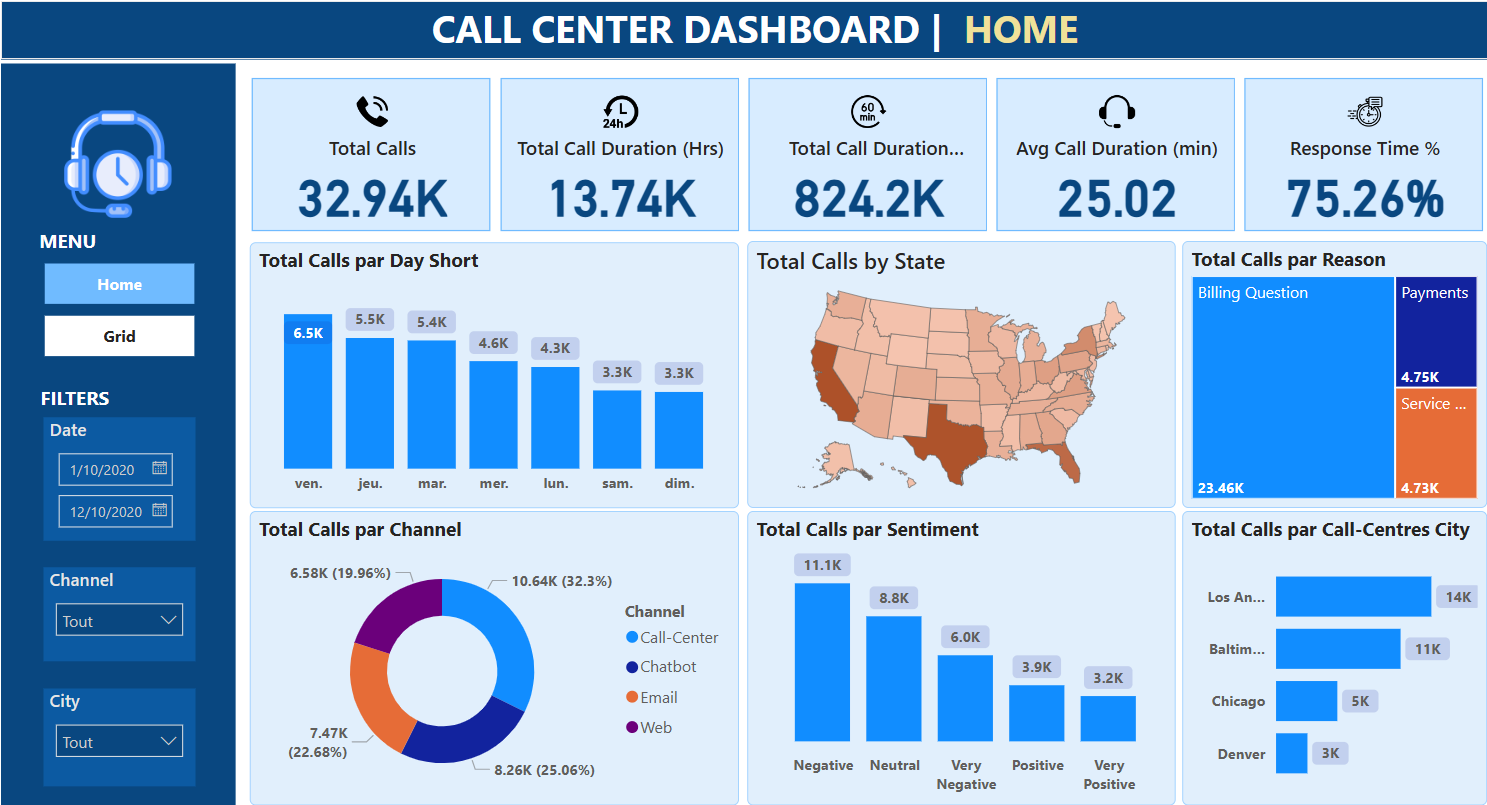

The dashboard page shown, as its layout file describes it:
{"tool":"powerbi","page":{"name":"Home","canvas":[1280,723],"ordinal":0},"visuals":[{"type":"shape","box":[4.1,42.5,1270.7,49.4],"z":0},{"type":"shape","box":[4.1,94.7,197.6,628.5],"z":1000},{"type":"cardVisual","fields":{"Data":["Call Center_Call Center.Total Calls","Call Center_Call Center.Total Call Duration (Hrs)","Call Center_Call Center.Total Call Duration (min)","Call Center_Call Center.Avg Call Duration (min)","Call Center_Call Center.Response Time %"]},"box":[210.5,102.3,1051.2,139.5],"z":2000},{"type":"textbox","box":[348.8,38.4,581.4,59.3],"z":3000},{"type":"columnChart","fields":{"Category":["Date Table.Day Short"],"Y":["Call Center_Call Center.Total Calls"]},"box":[214.1,245.6,411.7,223.7],"z":4000},{"type":"shapeMap","title":"Total Calls by State","fields":{"Category":["Call Center_Call Center.State"],"Value":["Call Center_Call Center.Total Calls"]},"box":[632.6,244.3,360.9,225],"z":5000},{"type":"treemap","fields":{"Group":["Call Center_Call Center.Reason"],"Values":["Call Center_Call Center.Total Calls"]},"box":[999,244.3,256.6,225],"z":6000},{"type":"donutChart","fields":{"Category":["Call Center_Call Center.Channel"],"Y":["Call Center_Call Center.Total Calls"]},"box":[214,472,412,248],"z":7000},{"type":"columnChart","fields":{"Category":["Call Center_Call Center.Sentiment"],"Y":["Call Center_Call Center.Total Calls"]},"box":[633,472,361,248],"z":8000},{"type":"barChart","fields":{"Category":["Call Center_Call Center.Call-Centres City"],"Y":["Call Center_Call Center.Total Calls"]},"box":[999,472,257,248],"z":9000},{"type":"slicer","title":"Date","fields":{"Values":["Date Table.Date"]},"box":[39.8,392.8,127.6,104.3],"z":10000},{"type":"slicer","title":"Channel","fields":{"Values":["Call Center_Call Center.Channel"]},"box":[39.8,519.1,127.6,79.6],"z":11000},{"type":"slicer","title":"City","fields":{"Values":["Call Center_Call Center.City"]},"box":[39.8,620.6,127.6,82.3],"z":12000},{"type":"image","box":[52.1,129,100.2,100.2],"z":13000},{"type":"pageNavigator","box":[41.2,263.5,126.2,79.6],"z":14000},{"type":"textbox","box":[17.8,227.8,85.1,31.6],"z":15000},{"type":"textbox","box":[27.4,359.5,78.2,31.6],"z":15001}]}

Visuals, with their boxes on the page's 1280x723 design canvas (x1, y1, x2, y2). These are canvas units, not pixel positions in the 1487x805 screenshot, which may show the page scaled, cropped or inside an application window:
shape: [x1=4, y1=42, x2=1275, y2=92]
shape: [x1=4, y1=95, x2=202, y2=723]
cardVisual - Call Center_Call Center.Total Calls x Call Center_Call Center.Total Call Duration (Hrs): [x1=210, y1=102, x2=1262, y2=242]
textbox: [x1=349, y1=38, x2=930, y2=98]
columnChart - Date Table.Day Short x Call Center_Call Center.Total Calls: [x1=214, y1=246, x2=626, y2=469]
"Total Calls by State" shapeMap: [x1=633, y1=244, x2=994, y2=469]
treemap - Call Center_Call Center.Reason x Call Center_Call Center.Total Calls: [x1=999, y1=244, x2=1256, y2=469]
donutChart - Call Center_Call Center.Channel x Call Center_Call Center.Total Calls: [x1=214, y1=472, x2=626, y2=720]
columnChart - Call Center_Call Center.Sentiment x Call Center_Call Center.Total Calls: [x1=633, y1=472, x2=994, y2=720]
barChart - Call Center_Call Center.Call-Centres City x Call Center_Call Center.Total Calls: [x1=999, y1=472, x2=1256, y2=720]
"Date" slicer: [x1=40, y1=393, x2=167, y2=497]
"Channel" slicer: [x1=40, y1=519, x2=167, y2=599]
"City" slicer: [x1=40, y1=621, x2=167, y2=703]
image: [x1=52, y1=129, x2=152, y2=229]
pageNavigator: [x1=41, y1=264, x2=167, y2=343]
textbox: [x1=18, y1=228, x2=103, y2=259]
textbox: [x1=27, y1=360, x2=106, y2=391]
